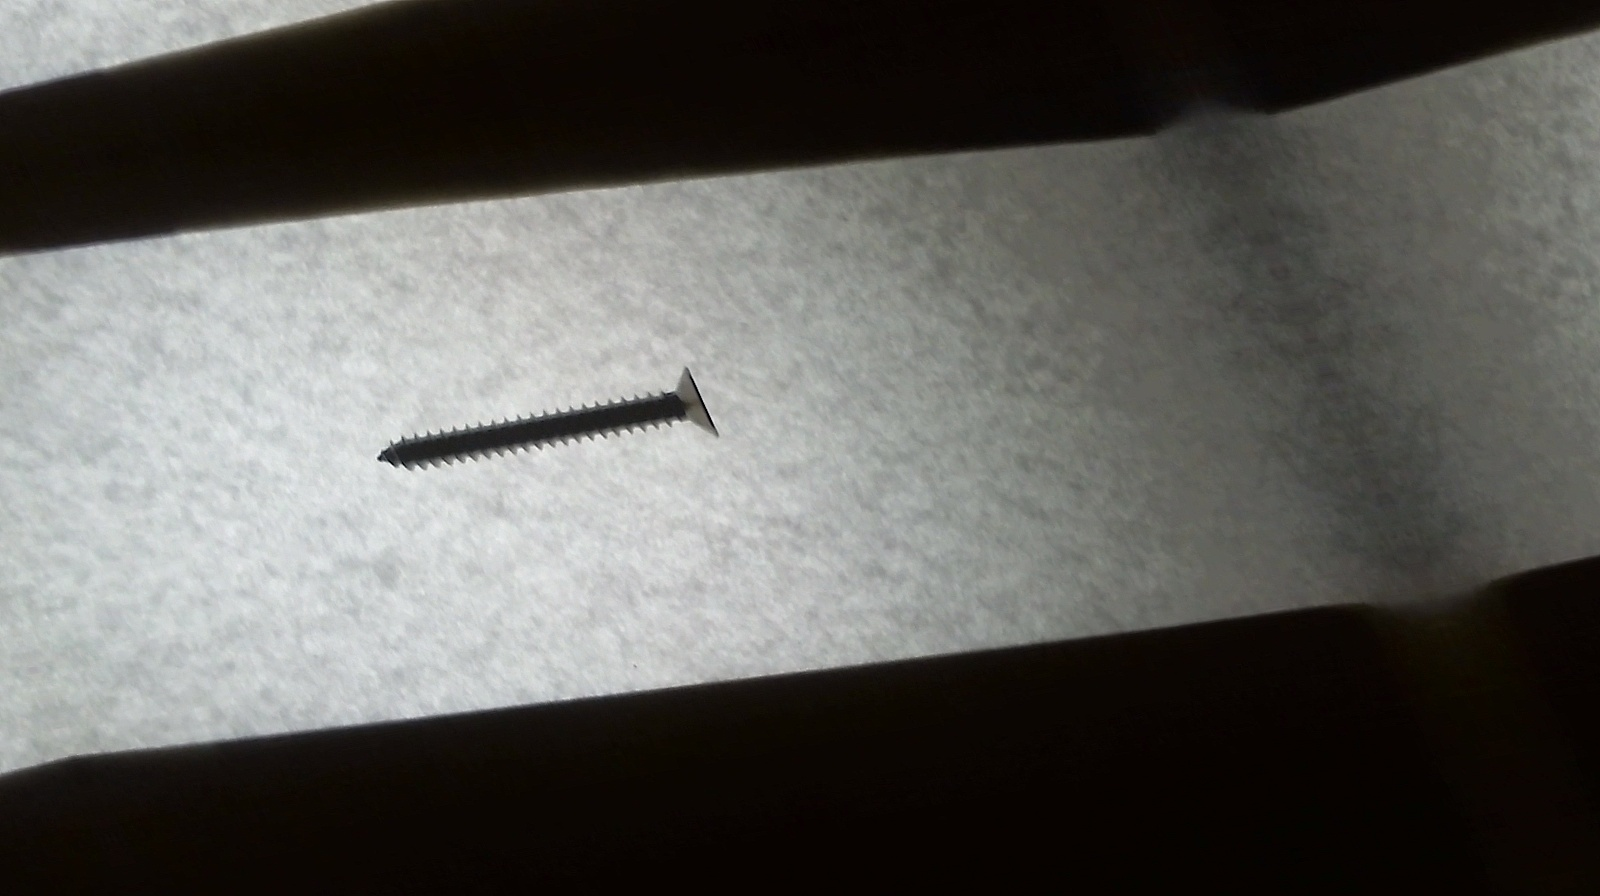S002: (344, 349, 741, 505)
